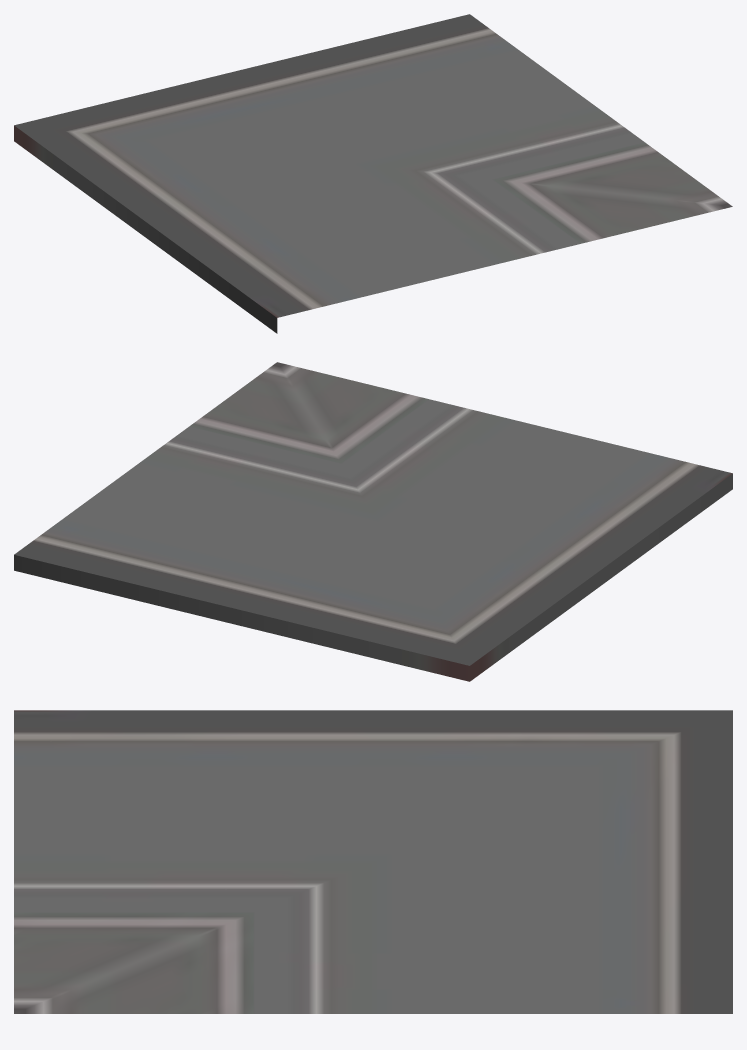
The model's file is BottomMetal_Corner_Square_Outer_2.glb.
The picture shows the model from 3 angles, top to bottom: view 1: azimuth 30°, elevation 25°; view 2: azimuth 150°, elevation 25°; view 3: azimuth 270°, elevation 25°; orthographic projection. The views are drawn at different scales.
Visible parts, largest first — view 1: BottomMetal_Corner_Square_Outer_2; view 2: BottomMetal_Corner_Square_Outer_2; view 3: BottomMetal_Corner_Square_Outer_2.
Boxes of the visible parts, x1,y1,x2,y2 form: BottomMetal_Corner_Square_Outer_2: (14,14,732,333); BottomMetal_Corner_Square_Outer_2: (14,362,732,681); BottomMetal_Corner_Square_Outer_2: (14,710,732,1013).
Bounding box in the file's own units: 0.6 × 0.02 × 0.6.
Materials: 2 (2 with a texture image).
